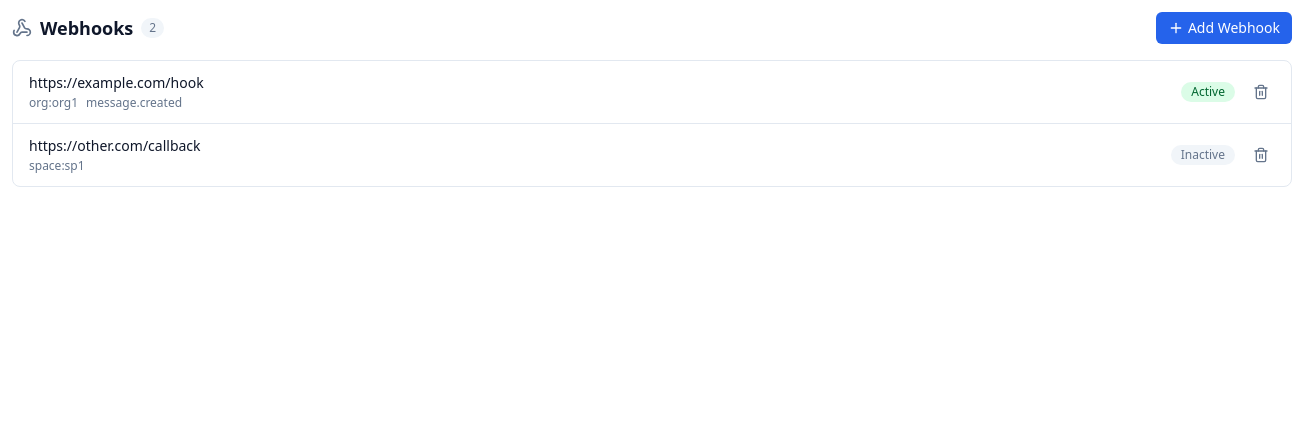
WebhookManager › hides create form after successful creation
This screenshot has width=1304, height=440.
Click the button with test id "webhook-create-toggle" at [1224, 28], box [1156, 12, 1292, 44]
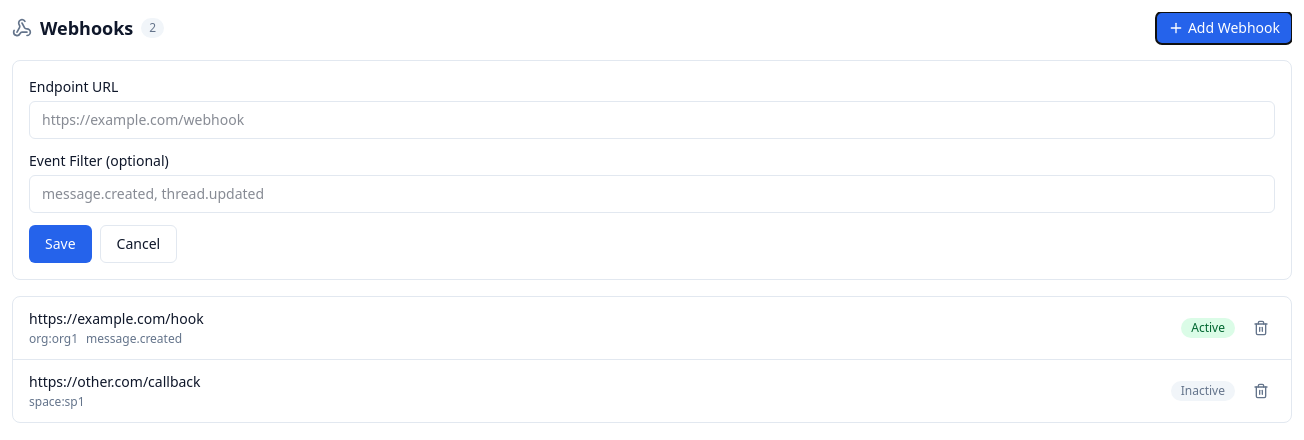
Type "https://new.com/hook" into the field with test id "webhook-url-input" at [652, 120], box [29, 101, 1275, 139]
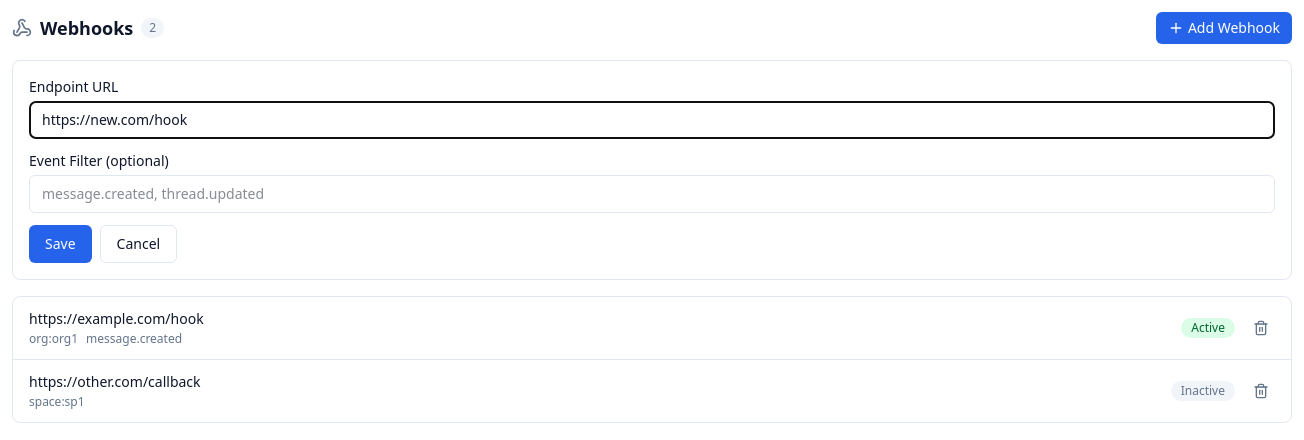
Click the button with test id "webhook-save-btn" at [60, 244], box [29, 225, 92, 263]
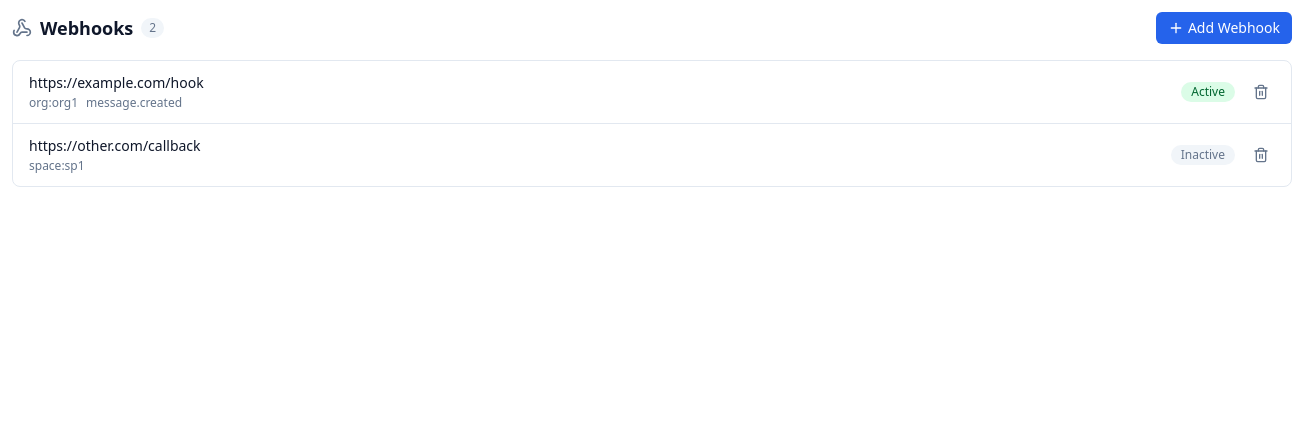
Check: the form with test id "webhook-create-form" is gone
